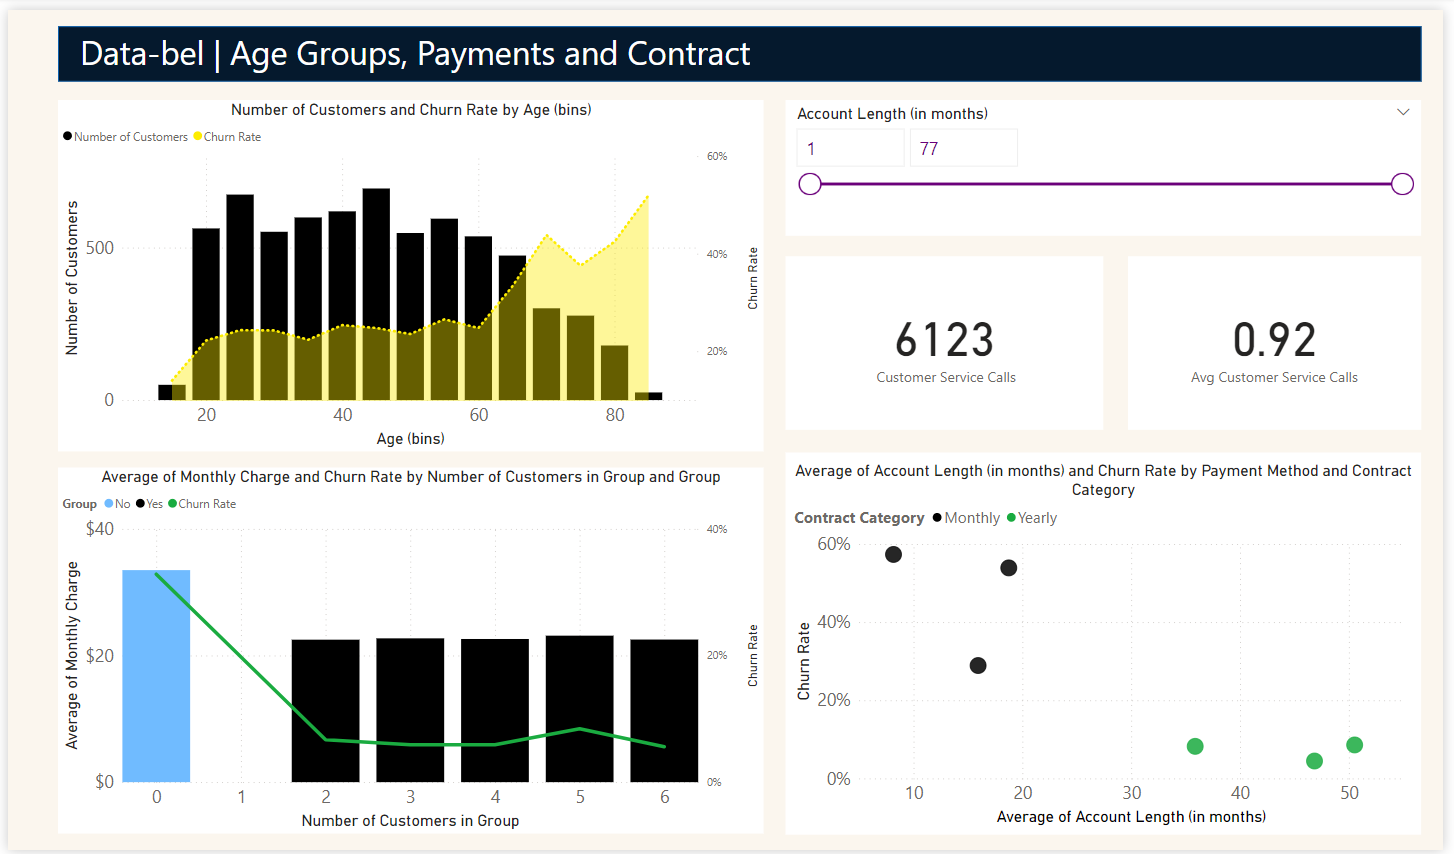

Layout of this report page (visuals, bound fields, positions):
{"tool":"powerbi","page":{"name":"Age Groups, Payments and Contract","canvas":[1640,960],"ordinal":1},"visuals":[{"type":"shape","box":[56.7,18.3,1558.3,63.3],"z":7000},{"type":"textbox","box":[76.7,18.3,786.7,63.3],"z":8000},{"type":"lineStackedColumnComboChart","fields":{"Category":["DatabelData.Age (bins)"],"Y":["DatabelData.Number of Customers"],"Y2":["DatabelData.Churn Rate"]},"box":[56.7,103.3,806.7,401.7],"z":8001},{"type":"lineStackedColumnComboChart","fields":{"Category":["DatabelData.Number of Customers in Group"],"Y":["Avg(DatabelData.Monthly Charge)"],"Series":["DatabelData.Group"],"Y2":["DatabelData.Churn Rate"]},"box":[56.7,523.3,806.7,418.3],"z":8002},{"type":"slicer","fields":{"Values":["DatabelData.Account Length (in months)"]},"box":[888.3,103.3,726.7,155],"z":8003},{"type":"card","fields":{"Values":["Sum(DatabelData.Customer Service Calls)"]},"box":[888.3,281.7,363.3,198.3],"z":8004},{"type":"card","fields":{"Values":["DatabelData.Avg Customer Service Calls"]},"box":[1280,281.7,335,198.3],"z":8005},{"type":"scatterChart","fields":{"Category":["DatabelData.Payment Method"],"X":["DatabelData.Account Length (in months)"],"Y":["DatabelData.Churn Rate"],"Series":["DatabelData.Contract Category"]},"box":[888.3,505,726.7,436.7],"z":8006}]}

Visuals, with their boxes in screenshot pixels (x1, y1, x2, y2), scaled from the page's 1640x960 canvas onto the 1454x854 screenshot:
shape: Rect(50, 16, 1432, 73)
textbox: Rect(68, 16, 765, 73)
lineStackedColumnComboChart - DatabelData.Age (bins) x DatabelData.Number of Customers: Rect(50, 92, 765, 449)
lineStackedColumnComboChart - DatabelData.Number of Customers in Group x Avg(DatabelData.Monthly Charge): Rect(50, 466, 765, 838)
slicer - DatabelData.Account Length (in months): Rect(788, 92, 1432, 230)
card - Sum(DatabelData.Customer Service Calls): Rect(788, 251, 1110, 427)
card - DatabelData.Avg Customer Service Calls: Rect(1135, 251, 1432, 427)
scatterChart - DatabelData.Payment Method x DatabelData.Account Length (in months): Rect(788, 449, 1432, 838)
